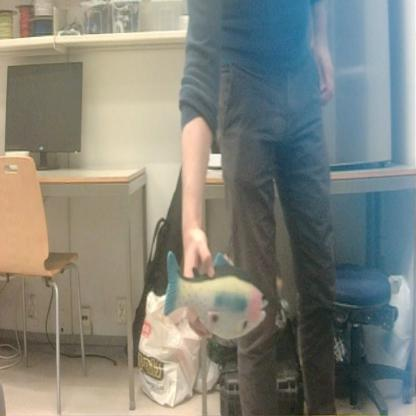rubberfish: (159, 243, 272, 344)
